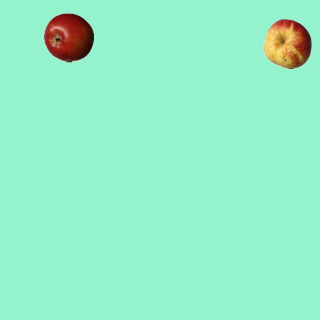Apple Braeburn: (43, 12, 93, 62)
Apple Red Yellow 1: (262, 18, 312, 68)
